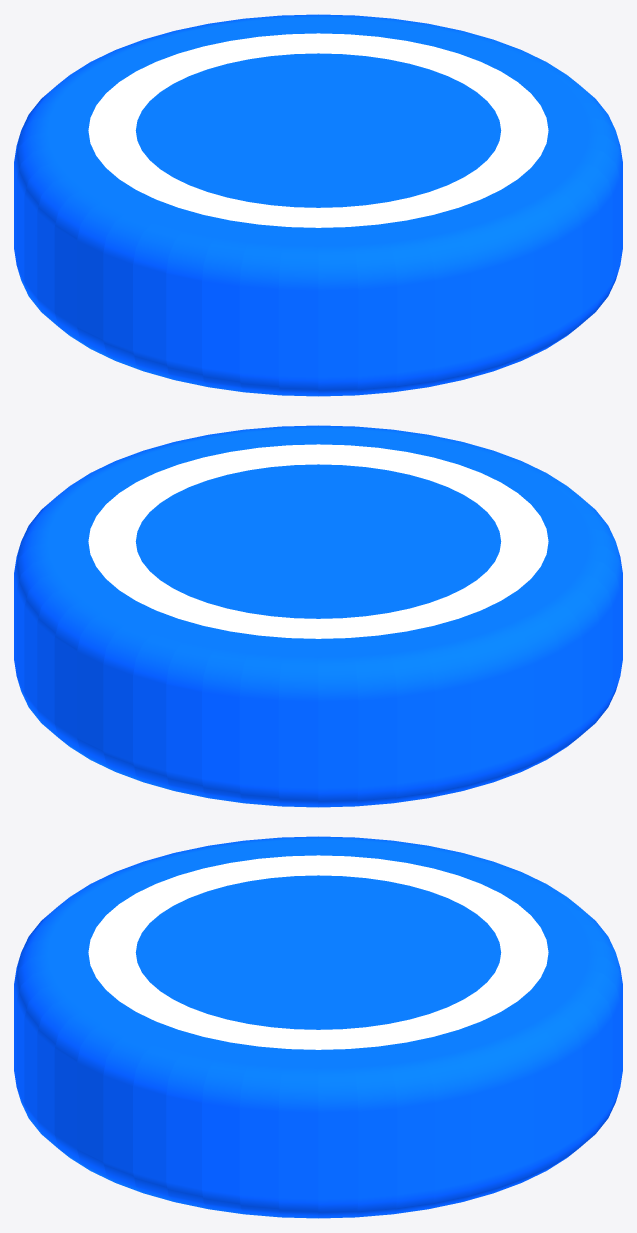
Rendered from steward.glb.
3 renders of one model, top to bottom at view 1: azimuth 30°, elevation 25°; view 2: azimuth 150°, elevation 25°; view 3: azimuth 270°, elevation 25°, orthographic.
Visible parts, largest first — view 1: steward; view 2: steward; view 3: steward.
Boxes of the visible parts, x1=… form: steward: x1=14, y1=14, x2=622, y2=396; steward: x1=14, y1=425, x2=622, y2=807; steward: x1=14, y1=836, x2=622, y2=1218.
Size of the model in its own units: 9 by 2.42 by 9.
